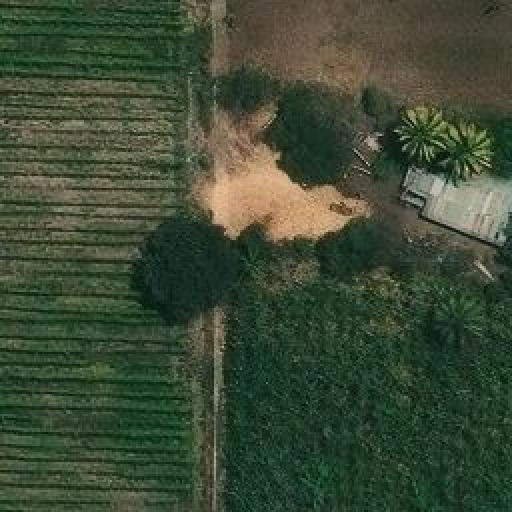manzanas: (391, 139, 510, 248)
